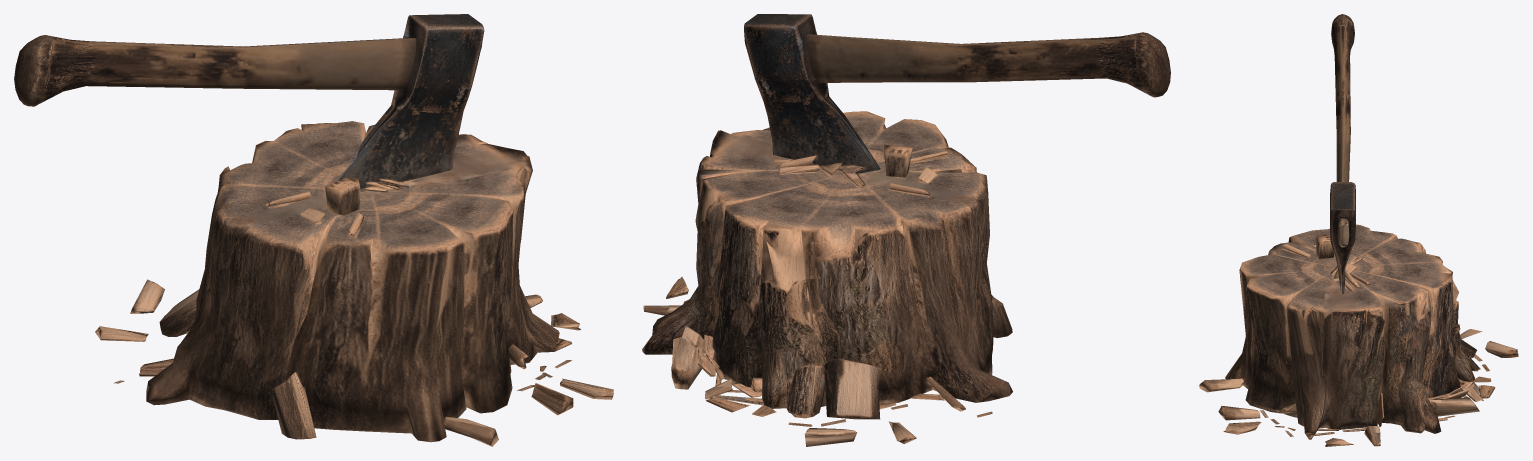
The model's file is Meshy_AI_Stump_Splitter_20261028_texture.fbx.
3 views of the same model, side by side, from view 1: azimuth 30°, elevation 25°; view 2: azimuth 150°, elevation 25°; view 3: azimuth 270°, elevation 25° (orthographic). The views are drawn at different scales.
Visible parts, largest first — view 1: Mesh_0; view 2: Mesh_0; view 3: Mesh_0.
Part boxes in pixels (x1,y1,x2,y2): Mesh_0: (14,14,613,446); Mesh_0: (642,14,1170,446); Mesh_0: (1199,14,1518,446).
Bounding box in the file's own units: 95.65 × 68.8 × 74.17.
Materials: 1 (1 with a texture image).
